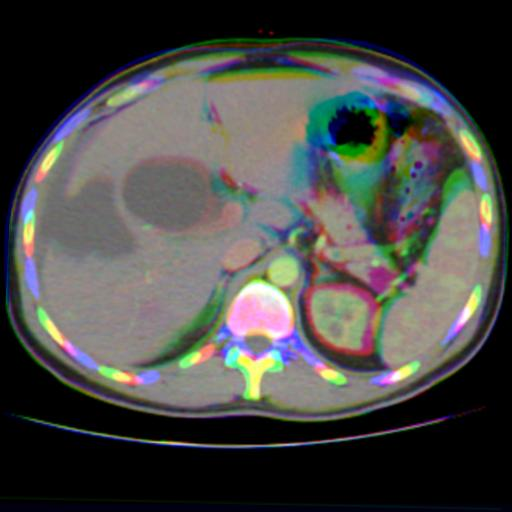Cyst: (40, 177, 133, 257), (123, 158, 217, 230)
